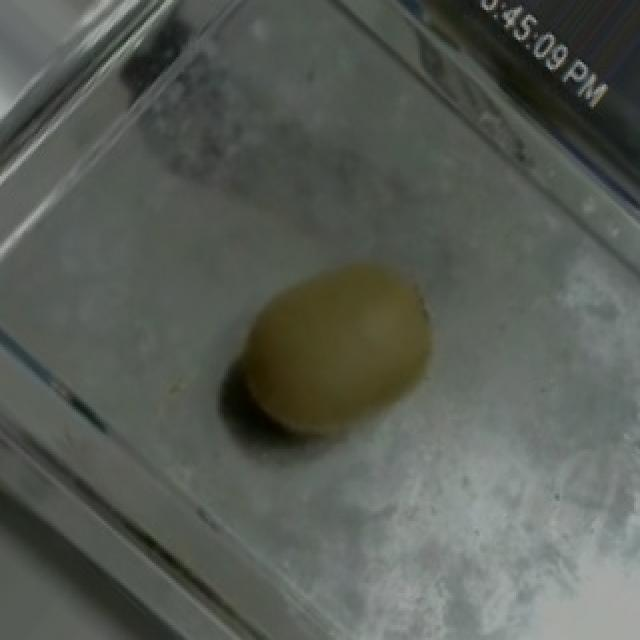Fruit: (192, 221, 478, 476)
